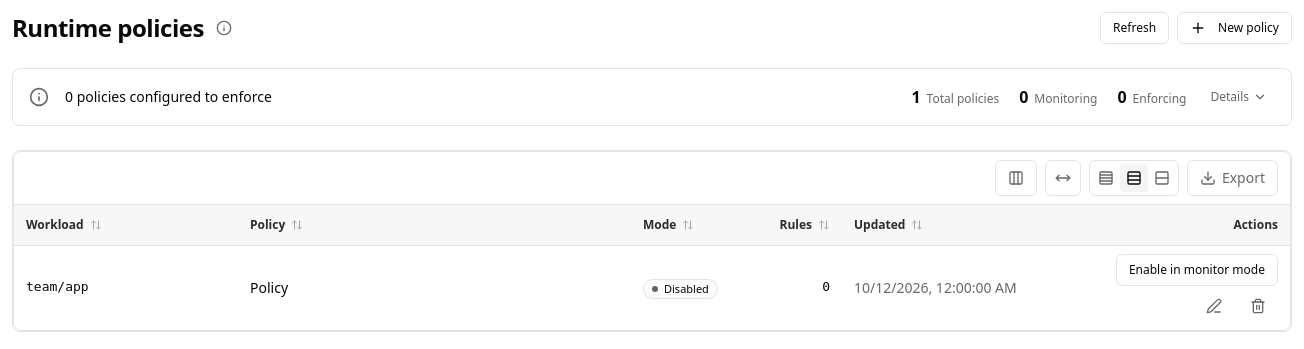
Test: re-enables a disabled policy in monitor mode using its exact decimal reviewed revision
Expected: the element with test id "runtime-policy-row-policy" is shown, x1=1116 y1=254 x2=1278 y2=322
Click the button with test id "runtime-policy-enable-policy": (1197, 270) x1=1116 y1=254 x2=1278 y2=286
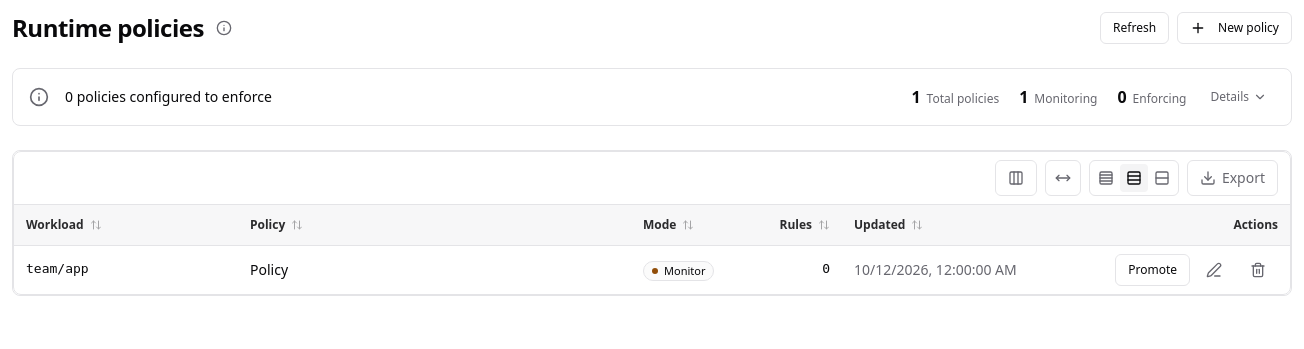
Expected: the button with test id "runtime-policy-promote-policy" is enabled, x1=1115 y1=254 x2=1190 y2=286
Expected: the button with test id "runtime-policy-enable-policy" is gone
